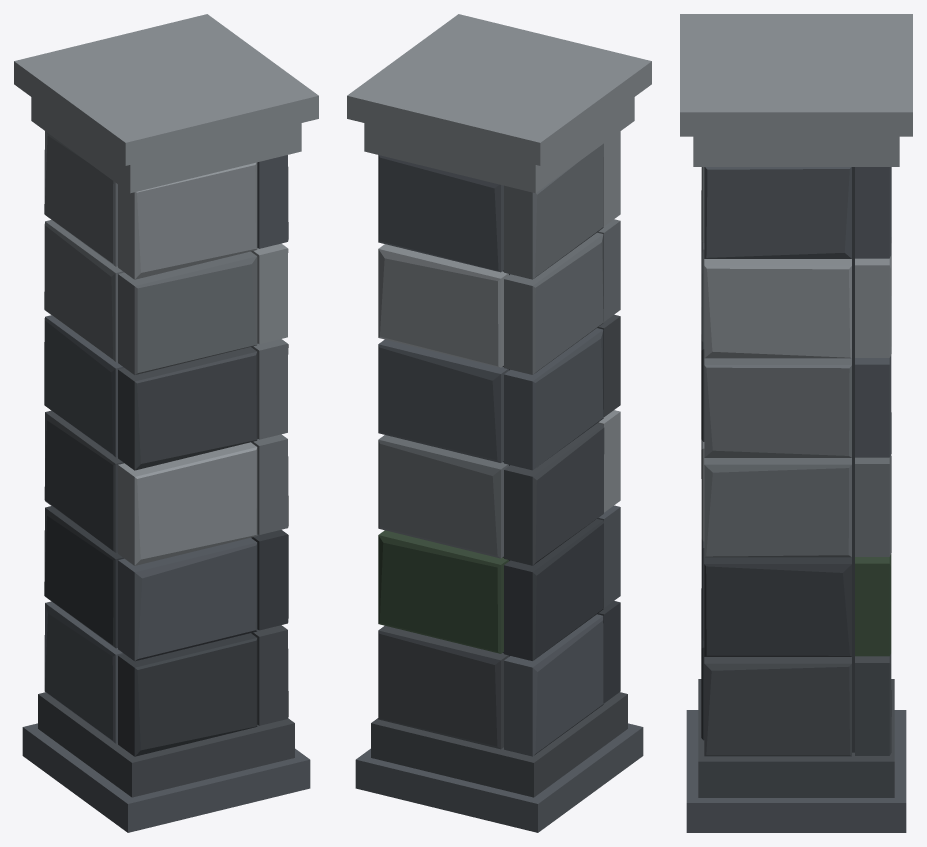
The model's file is mdvl_dungeon_pillar_01.glb.
3 renders of one model, left to right at view 1: azimuth 30°, elevation 25°; view 2: azimuth 150°, elevation 25°; view 3: azimuth 270°, elevation 25°, orthographic. The views are drawn at different scales.
Visible parts, largest first — view 1: mdvl_dungeon_pillar_01; view 2: mdvl_dungeon_pillar_01; view 3: mdvl_dungeon_pillar_01.
Part boxes in pixels (x1,y1,x2,y2): mdvl_dungeon_pillar_01: (14, 14, 318, 832); mdvl_dungeon_pillar_01: (347, 14, 651, 832); mdvl_dungeon_pillar_01: (680, 14, 912, 832).
Size of the model in its own units: 0.7 by 2.4 by 0.7.
Materials: 1 (1 with a texture image).
